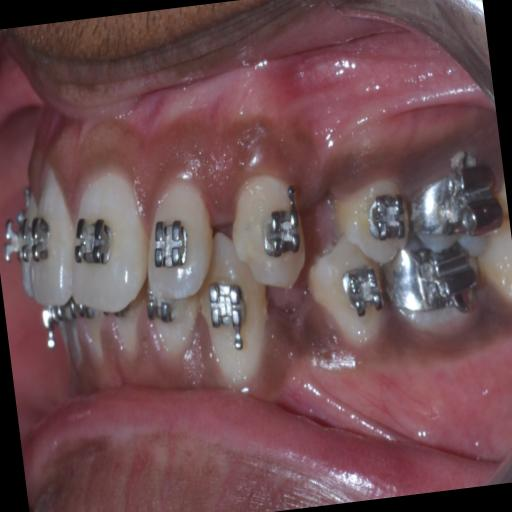correct_brace: (326, 164, 426, 274), (68, 208, 117, 268), (148, 217, 196, 274), (260, 204, 308, 260)
incorrect_brace: (132, 170, 228, 308), (364, 190, 418, 244)
